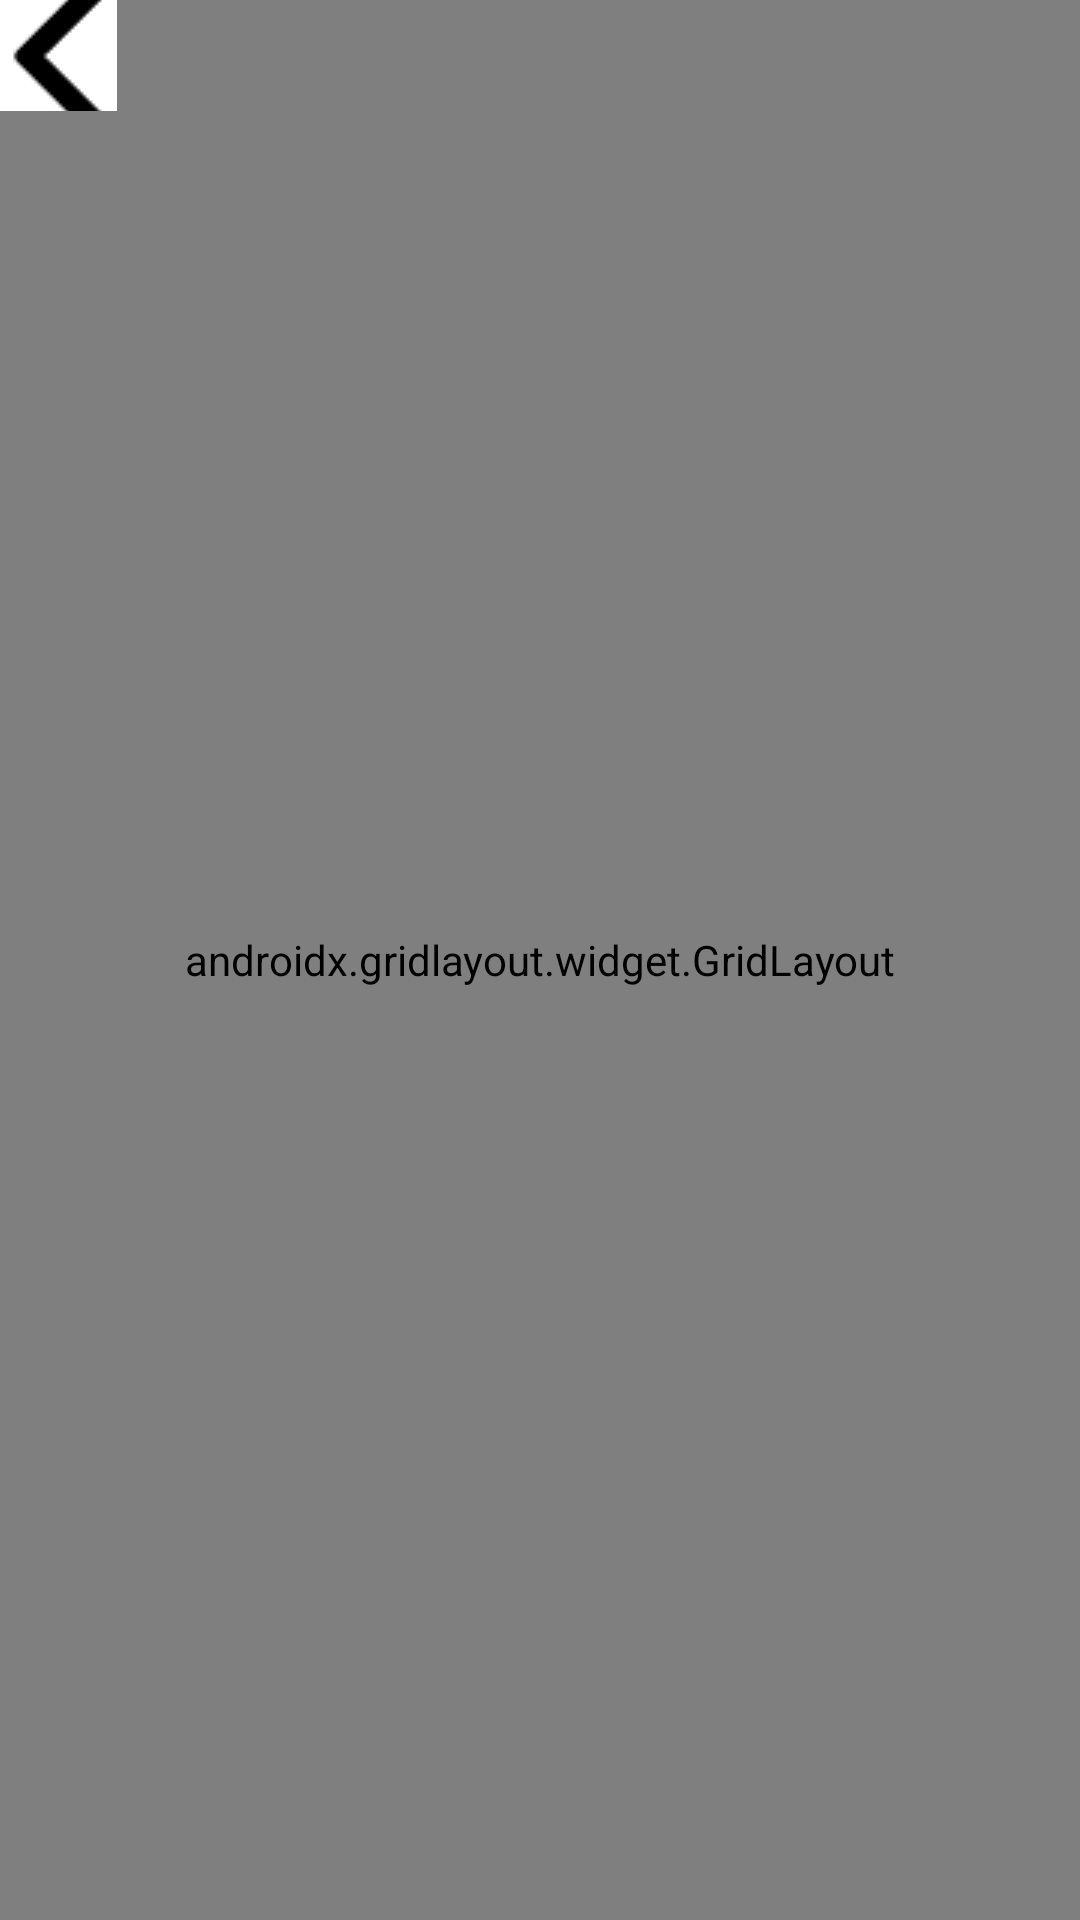

Locate icon controls on the screen. Image size 1080px×1920px, boxes as bbox=[x1, y1, x2, y2].
back: bbox=[0, 0, 117, 111]
